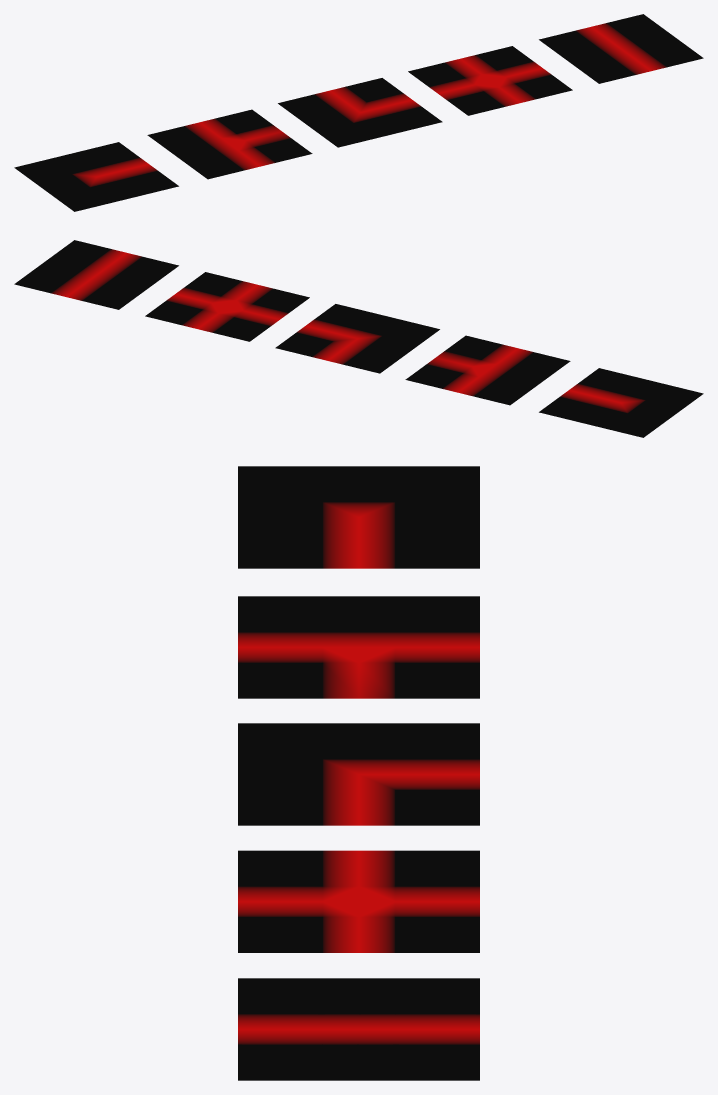
File: Karts_Set.fbx
3 renders of one model, top to bottom at view 1: azimuth 30°, elevation 25°; view 2: azimuth 150°, elevation 25°; view 3: azimuth 270°, elevation 25°, orthographic. The views are drawn at different scales.
Parts seen in each view (by area): view 1: T_karts, St_karts, Ex_karts, X_karts, An_karts; view 2: T_karts, St_karts, Ex_karts, X_karts, An_karts; view 3: St_karts, X_karts, T_karts, An_karts, Ex_karts.
Boxes of the visible parts, left/top/right/bottom form: T_karts: left=147, top=109, right=312, bottom=179; St_karts: left=539, top=14, right=703, bottom=83; Ex_karts: left=14, top=142, right=178, bottom=211; X_karts: left=408, top=46, right=572, bottom=115; An_karts: left=278, top=78, right=442, bottom=147; T_karts: left=405, top=335, right=570, bottom=405; St_karts: left=14, top=240, right=178, bottom=309; Ex_karts: left=539, top=368, right=703, bottom=437; X_karts: left=145, top=272, right=309, bottom=341; An_karts: left=275, top=304, right=439, bottom=373; St_karts: left=238, top=978, right=479, bottom=1080; X_karts: left=238, top=850, right=479, bottom=952; T_karts: left=238, top=596, right=479, bottom=698; An_karts: left=238, top=723, right=479, bottom=825; Ex_karts: left=238, top=466, right=479, bottom=568.
Bounding box in the file's own units: 600 × 0 × 100.
